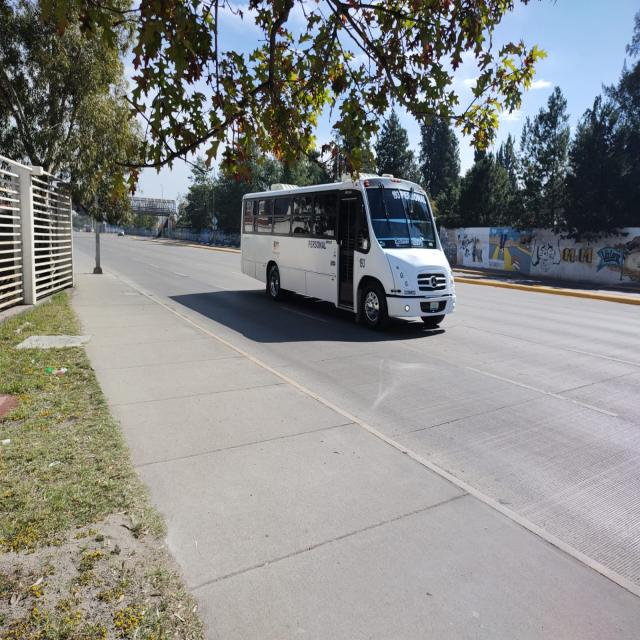Autobus: (238, 187, 458, 327)
